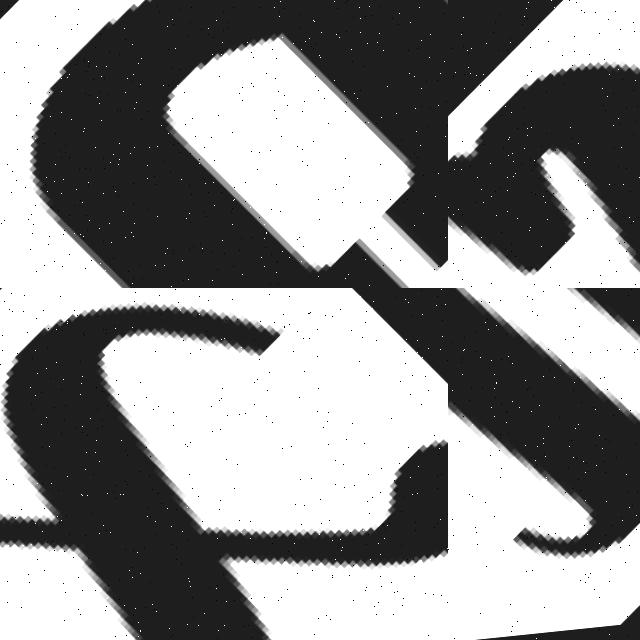D: (448, 288, 640, 640)
N: (0, 0, 448, 288)
S: (448, 0, 640, 288)
X: (0, 288, 448, 640)
